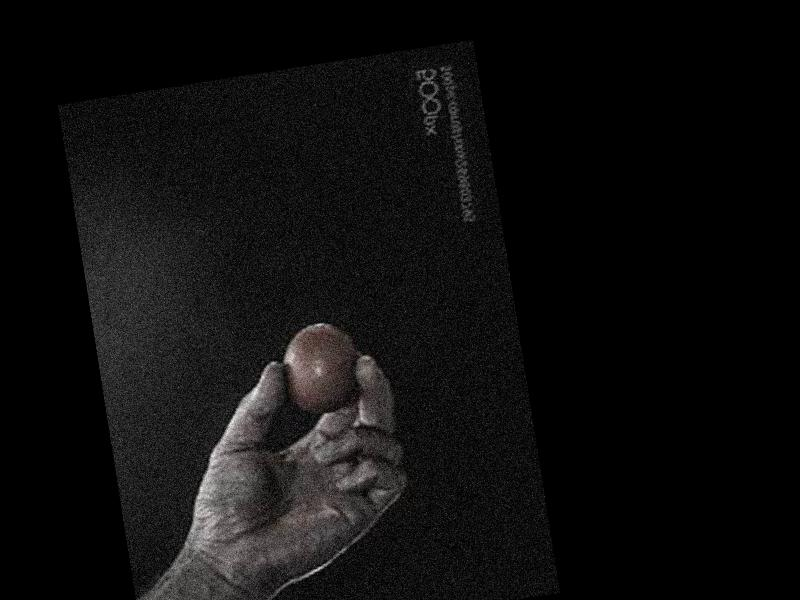Eggs: (275, 319, 364, 421)
